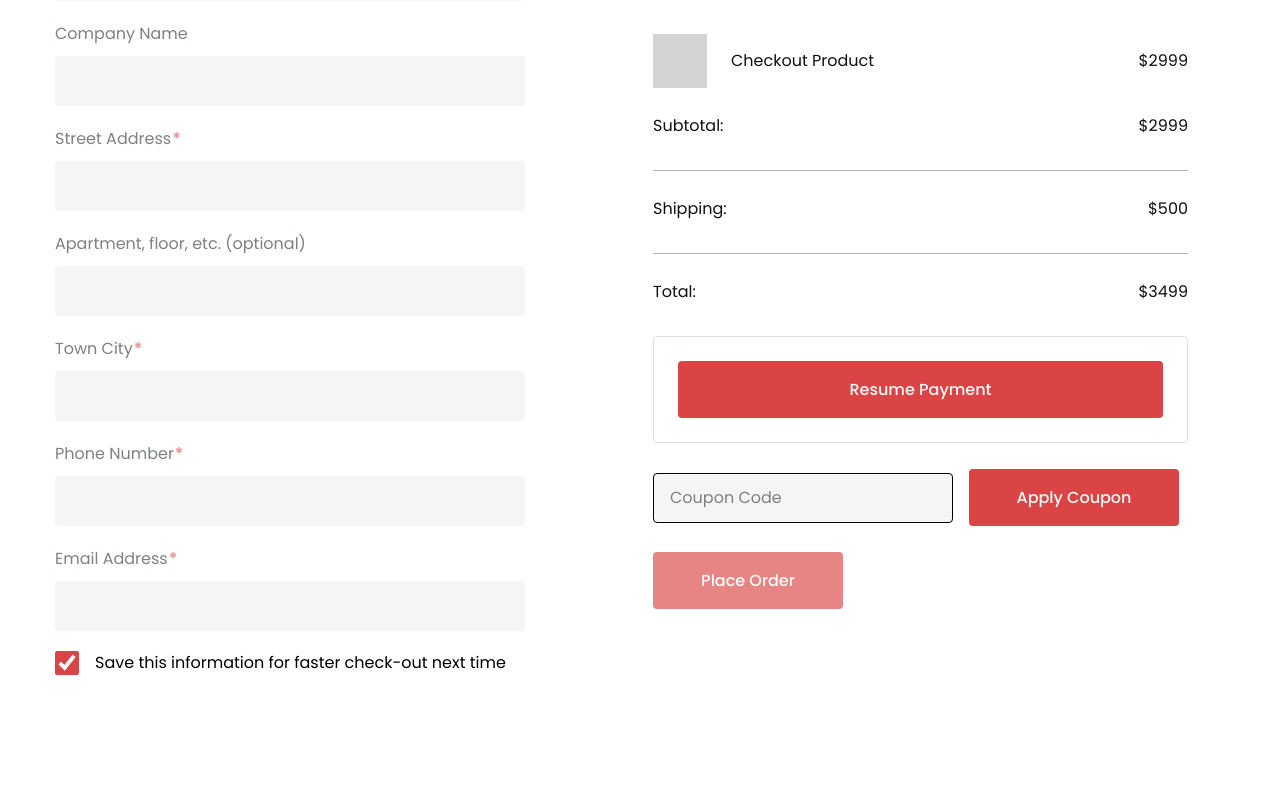
Scenario: CheckoutPage › clears stale pending Stripe checkout state when the stored order no longer exists
The width and height of the screenshot is (1280, 789).
(page scrolled)
Check: the button "Place Order" is disabled, box left=653, top=552, right=843, bottom=609
Click the button "Resume Payment".
click(920, 390)  # box left=678, top=361, right=1163, bottom=418
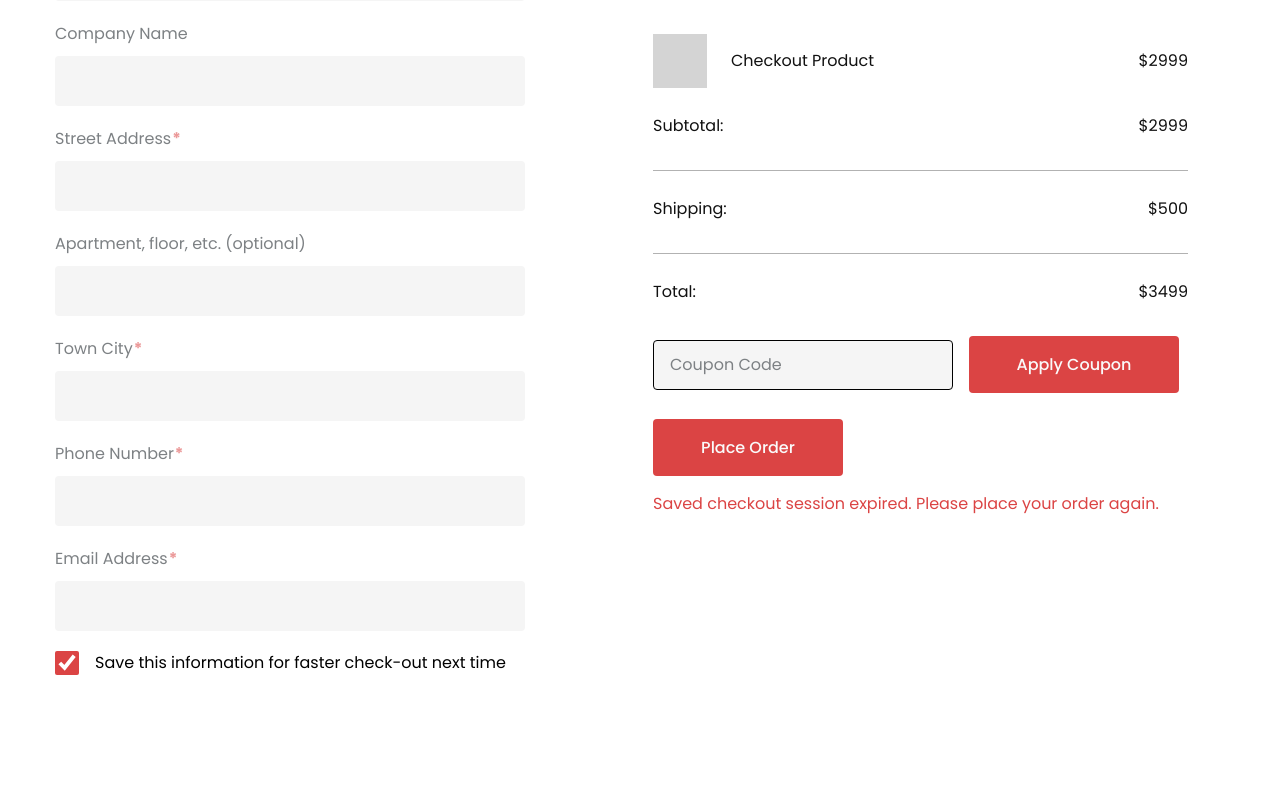
Check: the text "Saved checkout session expired" is shown, box left=653, top=492, right=1159, bottom=515
Check: the button "Resume Payment" is gone
Check: the button "Place Order" is enabled, box left=653, top=419, right=843, bottom=476
